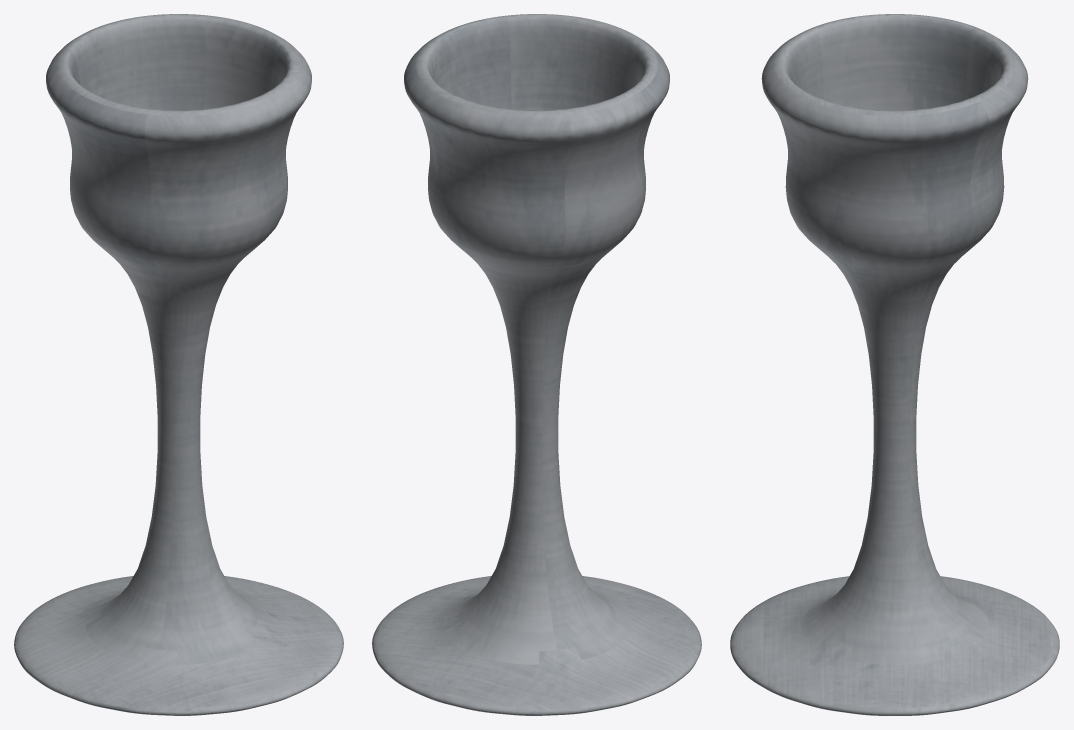
The model's file is WiGss 4.fbx.
3 renders of one model, left to right at view 1: azimuth 30°, elevation 25°; view 2: azimuth 150°, elevation 25°; view 3: azimuth 270°, elevation 25°, orthographic.
Parts seen in each view (by area): view 1: WiGss_4; view 2: WiGss_4; view 3: WiGss_4.
Part boxes in pixels (x1,y1,x2,y2): WiGss_4: (14,14,343,715); WiGss_4: (372,14,701,715); WiGss_4: (730,14,1059,715).
Size of the model in its own units: 19.62 by 38.81 by 19.62.
1 material, 1 textured.
